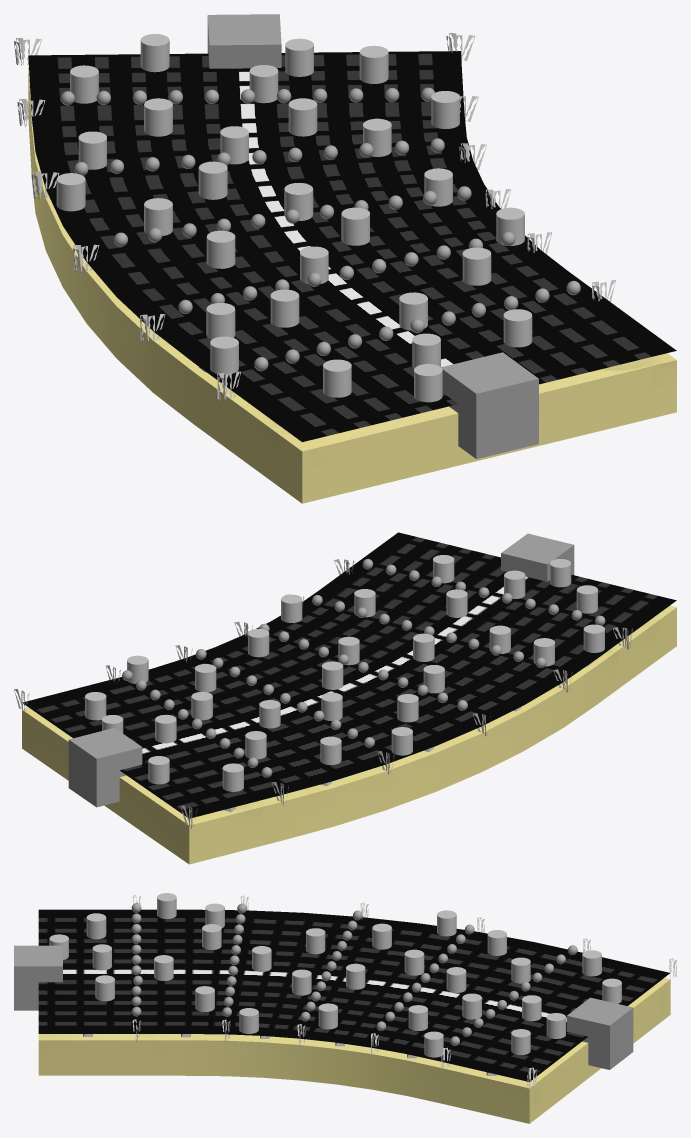
Rendered from assets013_Streckenteil_rechts002.fbx.
3 views of the same model, one above another, from view 1: azimuth 30°, elevation 25°; view 2: azimuth 150°, elevation 25°; view 3: azimuth 270°, elevation 25° (orthographic). The views are drawn at different scales.
Visible parts, largest first — view 1: streckenteil_rechtskurve_indicator_geo, streckenteil_rechtskurve_geo2, a (×12), b (×10), startpoint, c (×6), startpoint2, d; view 2: streckenteil_rechtskurve_indicator_geo, streckenteil_rechtskurve_geo2, a (×12), b (×10), startpoint2, c (×5), startpoint, d; view 3: streckenteil_rechtskurve_indicator_geo, streckenteil_rechtskurve_geo2, a (×11), b (×10), startpoint2, c (×6), startpoint, d.
Boxes of the visible parts, left/top/right/bottom form: streckenteil_rechtskurve_indicator_geo: left=28, top=51, right=676, bottom=442; streckenteil_rechtskurve_geo2: left=28, top=65, right=676, bottom=503; a (×12): left=206, top=168, right=532, bottom=402; b (×10): left=56, top=91, right=459, bottom=284; startpoint: left=441, top=352, right=538, bottom=459; c (×6): left=70, top=38, right=388, bottom=164; startpoint2: left=207, top=14, right=281, bottom=68; d: left=140, top=34, right=169, bottom=72; streckenteil_rechtskurve_indicator_geo: left=22, top=532, right=676, bottom=818; streckenteil_rechtskurve_geo2: left=22, top=605, right=676, bottom=864; a (×12): left=248, top=555, right=604, bottom=666; b (×10): left=127, top=633, right=444, bottom=764; startpoint2: left=68, top=727, right=142, bottom=807; c (×5): left=85, top=692, right=280, bottom=791; startpoint: left=501, top=533, right=574, bottom=581; d: left=148, top=756, right=169, bottom=784; streckenteil_rechtskurve_indicator_geo: left=38, top=909, right=669, bottom=1081; streckenteil_rechtskurve_geo2: left=38, top=978, right=670, bottom=1123; a (×11): left=86, top=893, right=337, bottom=1033; b (×10): left=252, top=910, right=506, bottom=1057; startpoint2: left=566, top=997, right=633, bottom=1069; c (×6): left=446, top=950, right=601, bottom=1054; startpoint: left=14, top=945, right=62, bottom=1010; d: left=602, top=978, right=621, bottom=1003.
Size of the model in its own units: 43.63 by 6.73 by 67.6.
